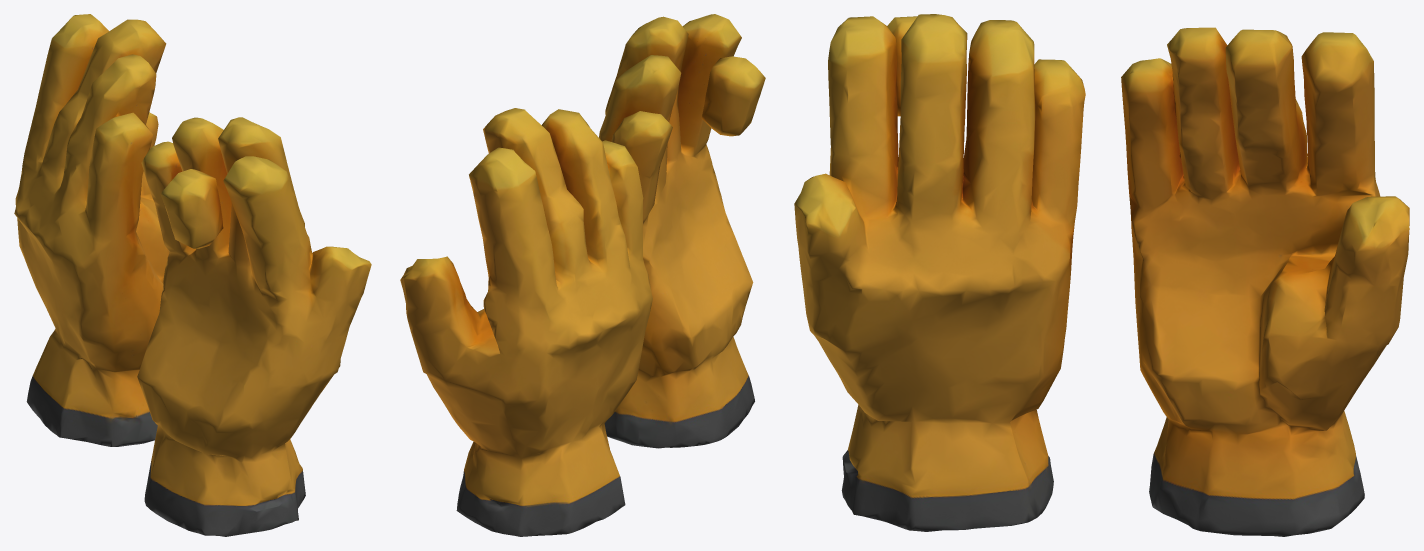
The model's file is safety-gloves.glb.
3 renders of one model, left to right at view 1: azimuth 30°, elevation 25°; view 2: azimuth 150°, elevation 25°; view 3: azimuth 270°, elevation 25°, orthographic. The views are drawn at different scales.
Parts seen in each view (by area): view 1: tripo_node_1d9e5244-360b-4777-b6bc-5f35c51eb333; view 2: tripo_node_1d9e5244-360b-4777-b6bc-5f35c51eb333; view 3: tripo_node_1d9e5244-360b-4777-b6bc-5f35c51eb333.
Boxes of the visible parts, box(x1,y1,x2,y2) form: tripo_node_1d9e5244-360b-4777-b6bc-5f35c51eb333: box(14, 14, 371, 536); tripo_node_1d9e5244-360b-4777-b6bc-5f35c51eb333: box(400, 14, 765, 536); tripo_node_1d9e5244-360b-4777-b6bc-5f35c51eb333: box(794, 14, 1409, 536).
Bounding box in the file's own units: 0.4063 × 0.8644 × 1.
1 material, 1 textured.
